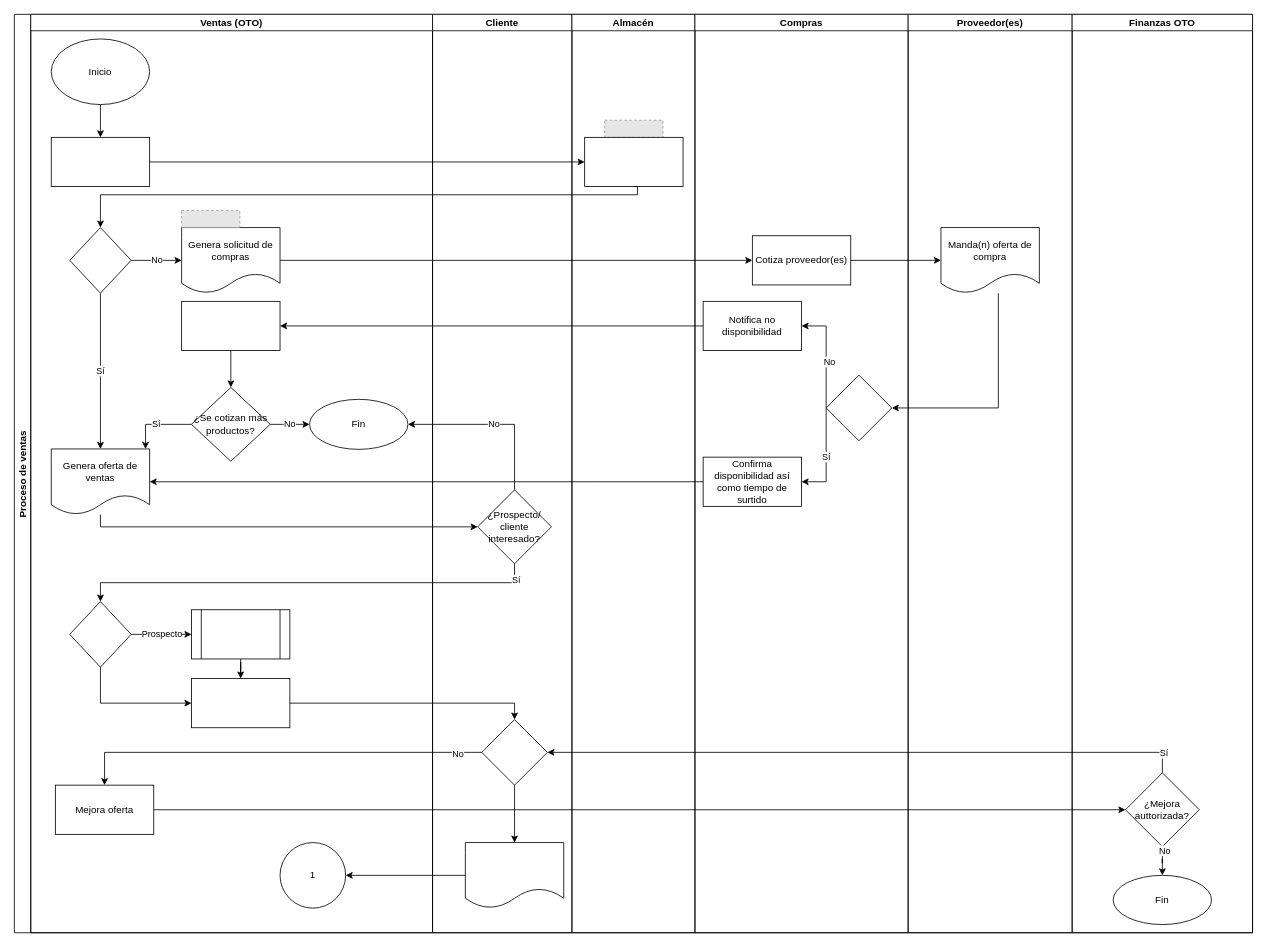
Image size: 1267x947. Some labels were removed from this diagram. Grey dashed boxes stand in for pictures. Here are the shapes that lost their labels. From the top down, the centre of each, then its label:
the point at 100,162: Recibe pedido del prospecto/cliente
the point at 633,162: Confirma existencia así como tiempo de surtido
the point at 100,260: ¿Disponible en stock?
the point at 230,326: Elimina artículo de la oferta
the point at 858,407: ¿Oferta(s) viable?
the point at 100,634: ¿Prospecto o cliente?
the point at 240,634: Registro de prospecto
the point at 240,703: Negociación con el cliente
the point at 514,752: ¿Negociación exitosa?
the point at 514,875: Genera orden de compra
